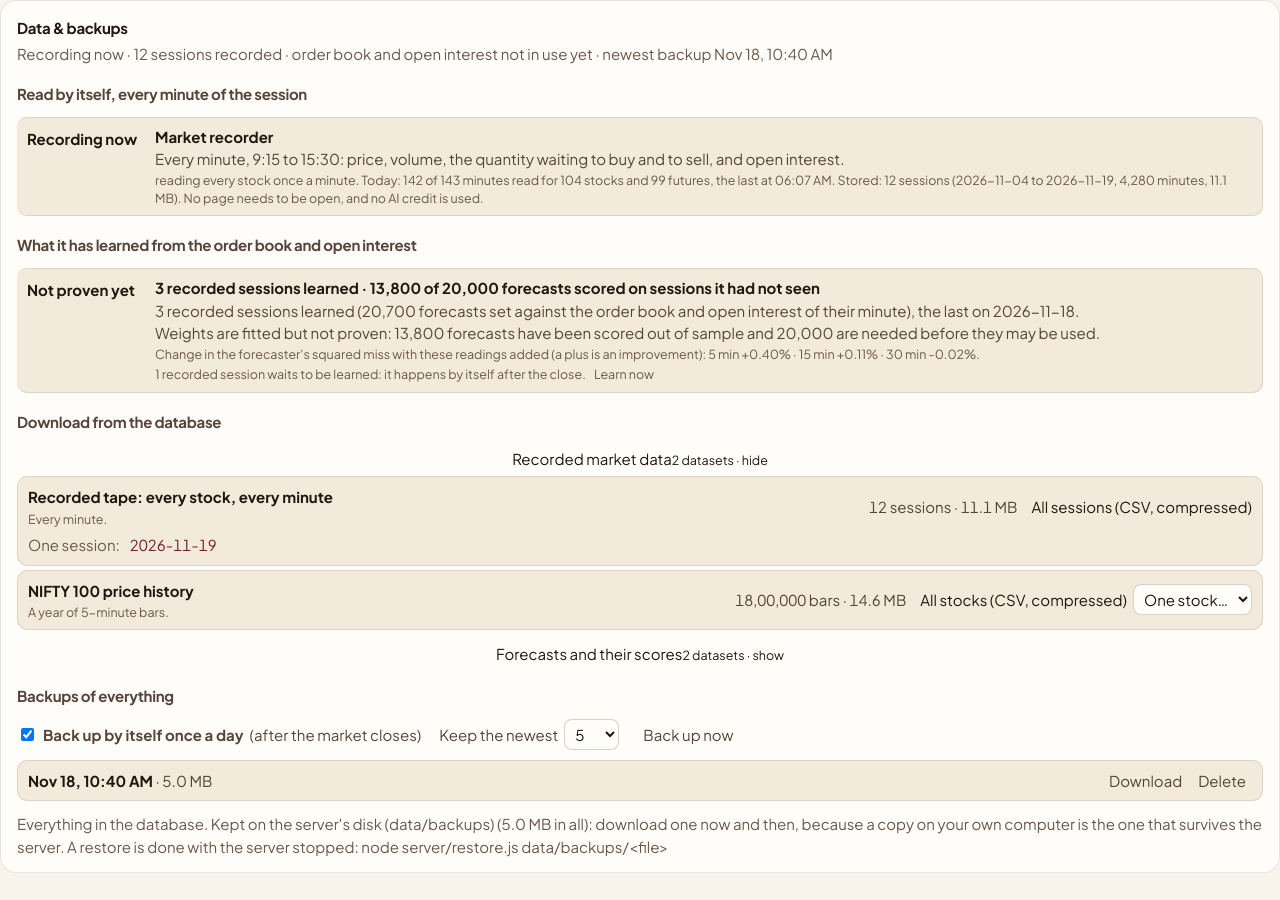
Test: the owner sees what is recorded and learned, a download for every dataset, and the backups — and can back up now
The image size is (1280, 900).
Later steps or results of the test are not shown.
Check: the text "Market recorder" is shown, box [155,126,273,146]
Check: the text "Recording now · 12 sessions recorded · order book and open interest not in use yet · newest backup" is shown, box [17,42,833,65]
Click the button "Forecasts and their scores2 datasets · show".
click(640, 654)  # box [17,640,1263,667]
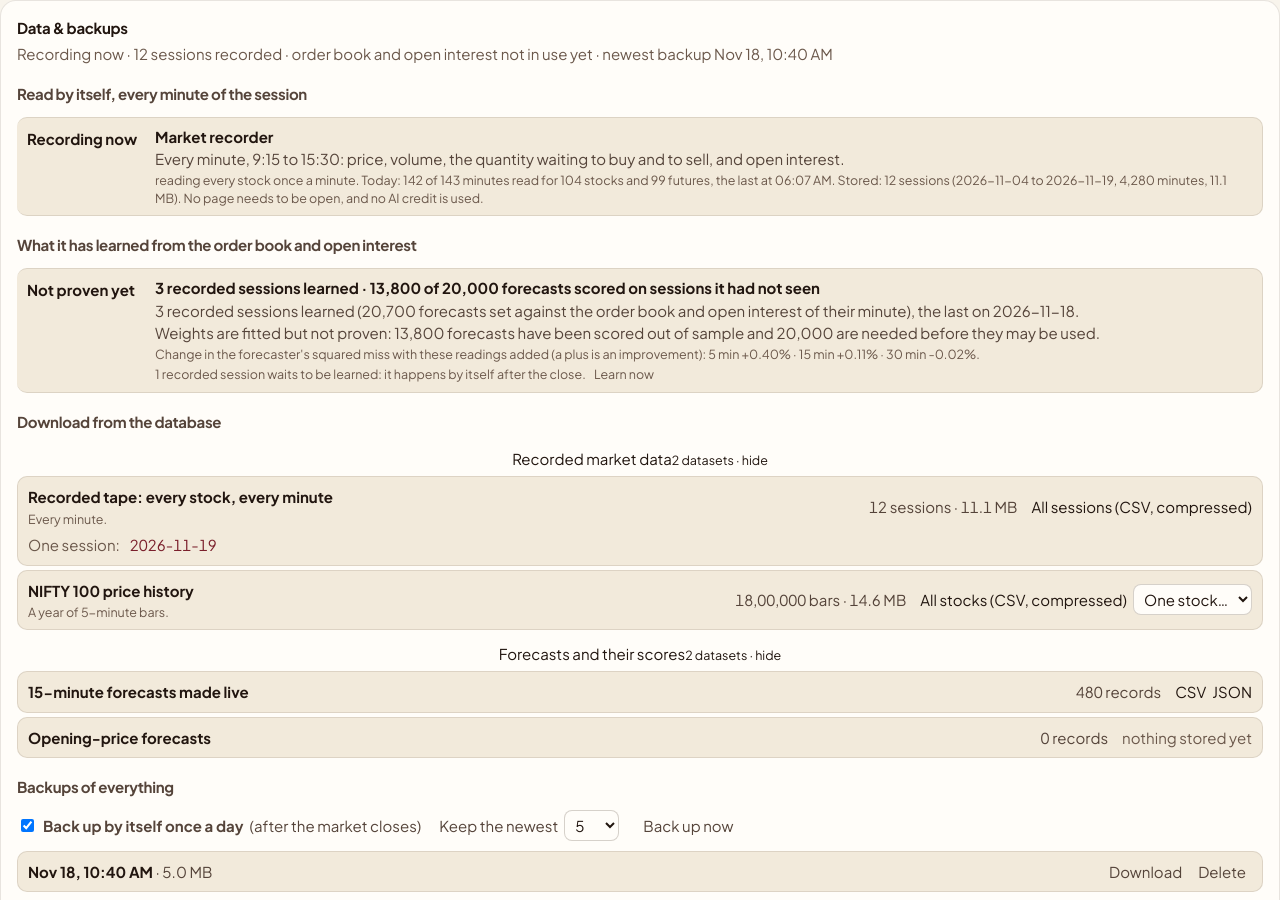
Check: the text "480 records" is shown, box [1076,679,1161,705]
Check: the text "nothing stored yet" is shown, box [1122,725,1252,750]
